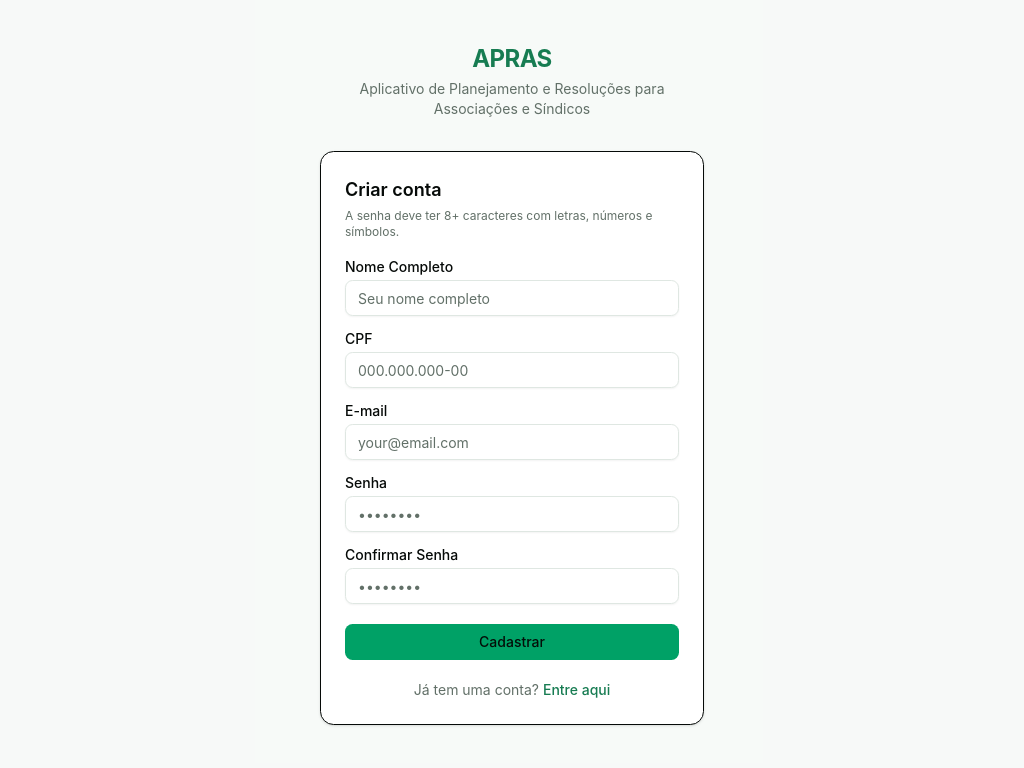
Test: SignupPage › shows error when passwords do not match
Type "Test User" into the field labelled "Nome Completo" at (512, 298), box [345, 280, 679, 316]
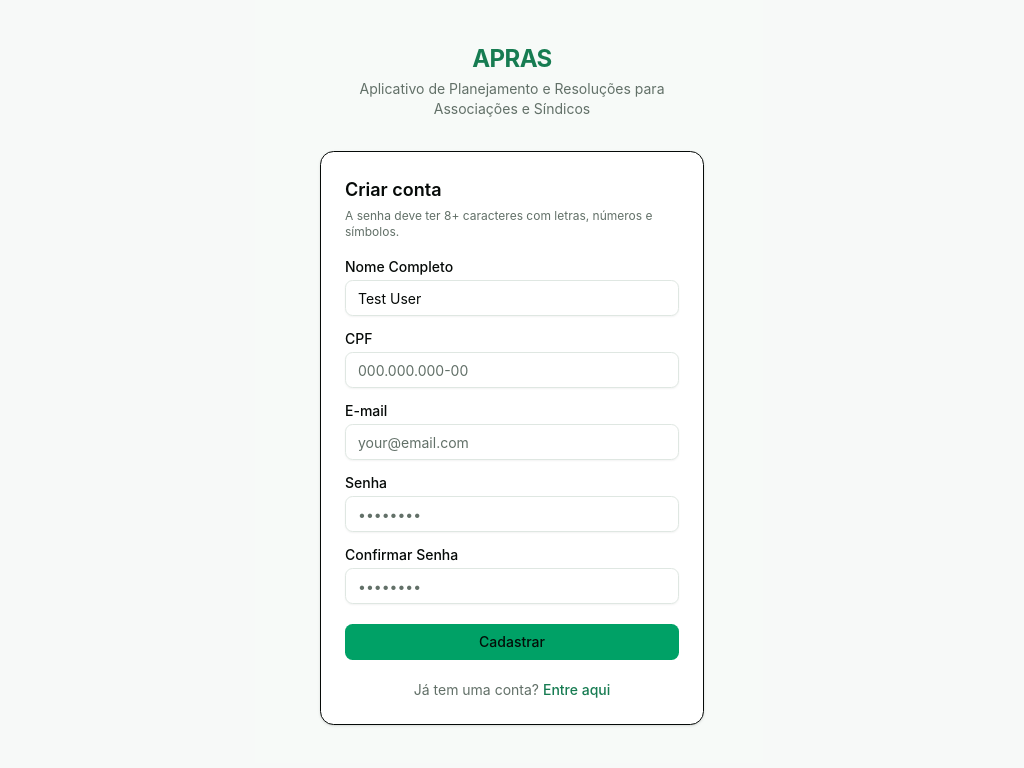
Type "529.982.247-25" into the field labelled "CPF" at (512, 370), box [345, 352, 679, 388]
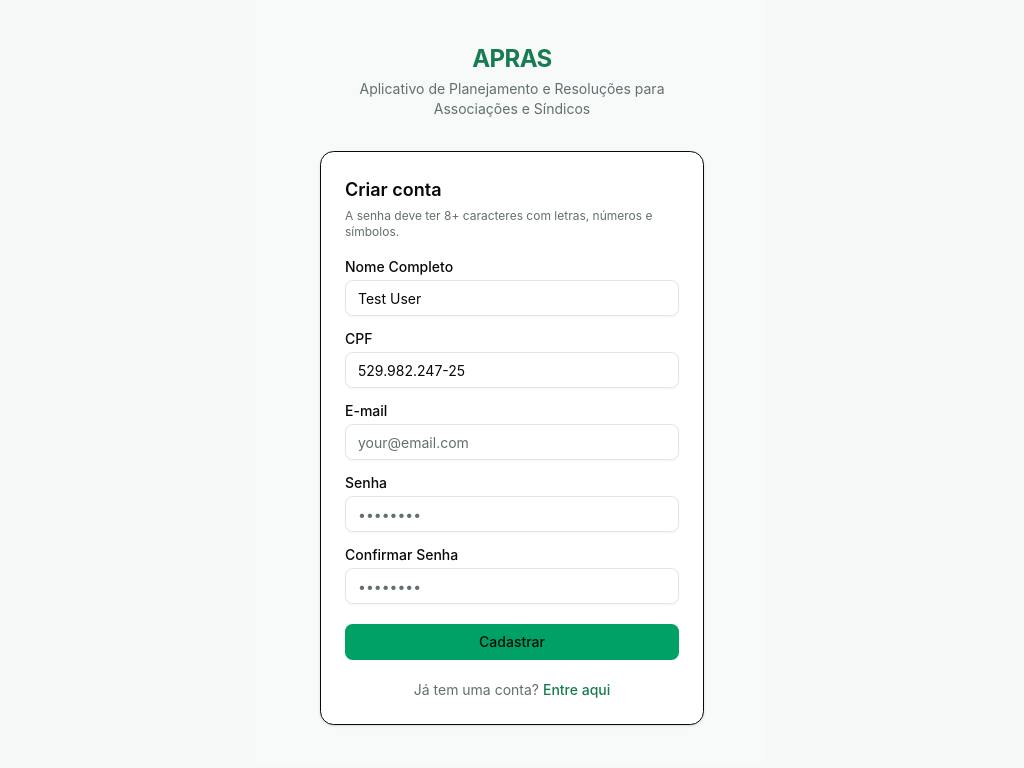
Type "test@test.com" into the field labelled "E-mail" at (512, 442), box [345, 424, 679, 460]
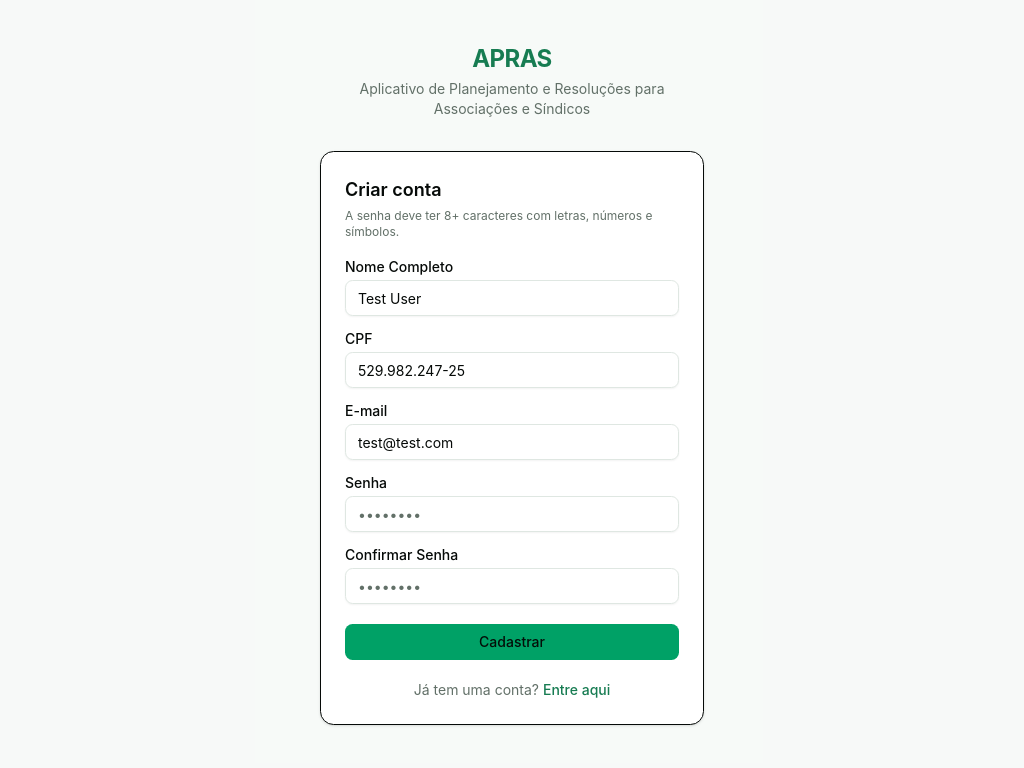
Type "password123!" into the password field labelled "Senha" at (512, 514), box [345, 496, 679, 532]
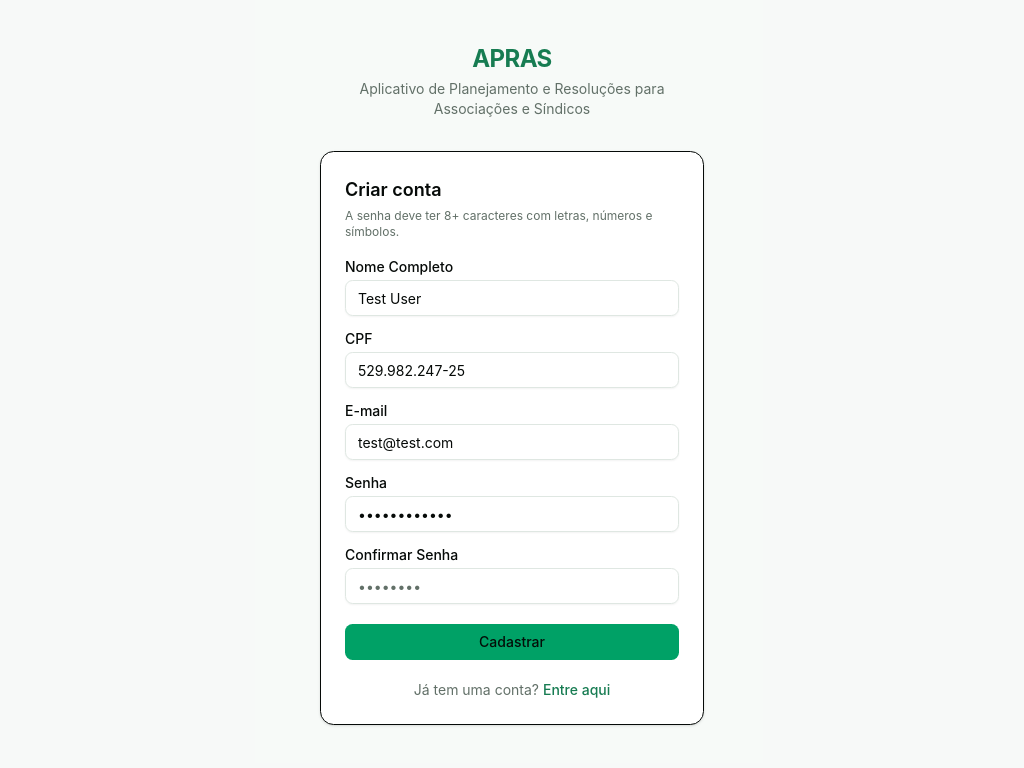
Type "different!" into the password field labelled "Confirmar Senha" at (512, 586), box [345, 568, 679, 604]
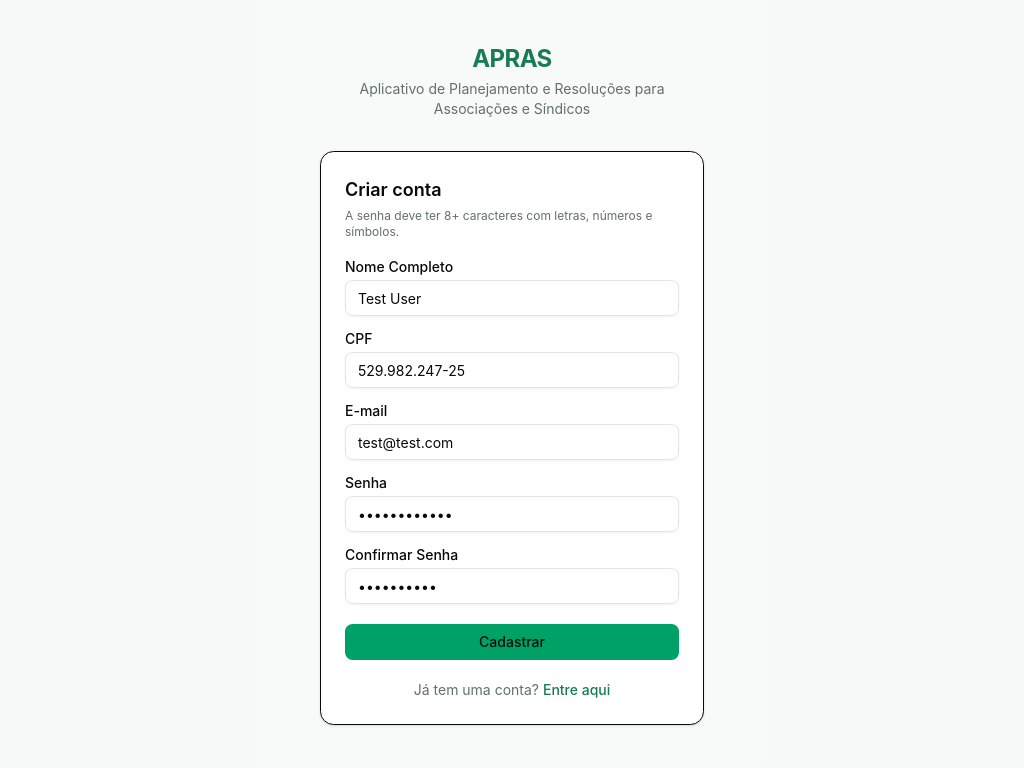
Click the button "Cadastrar" at (512, 642), box [345, 624, 679, 660]
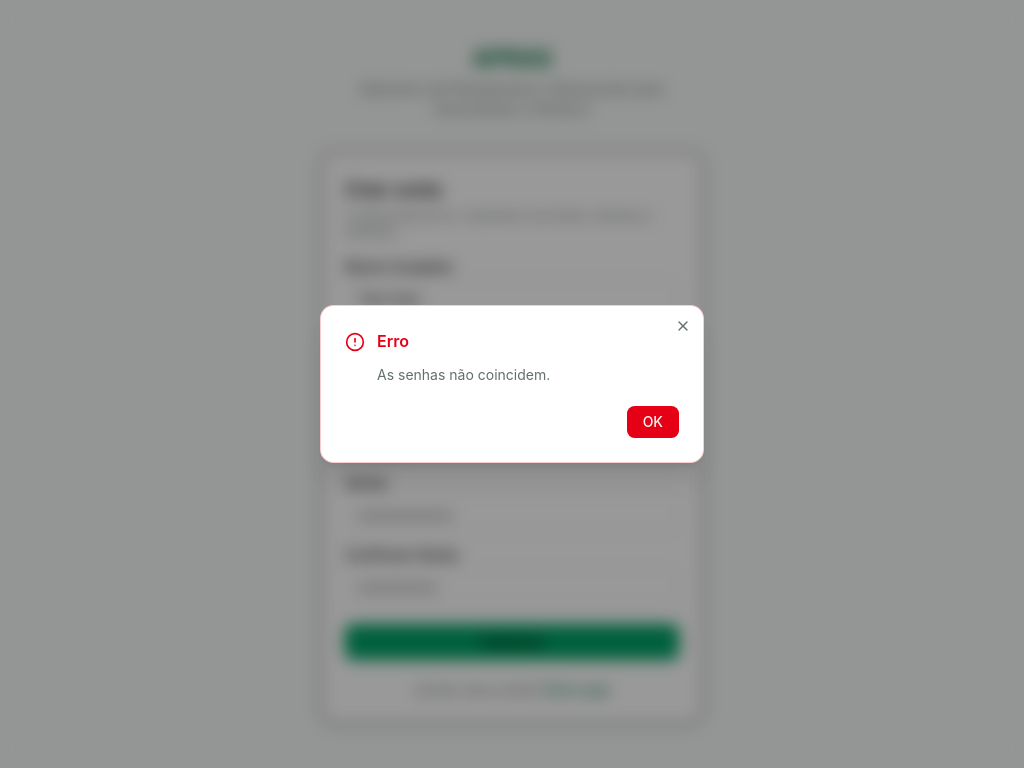
expect the text "As senhas não coincidem." is shown: met, box [377, 366, 550, 383]
